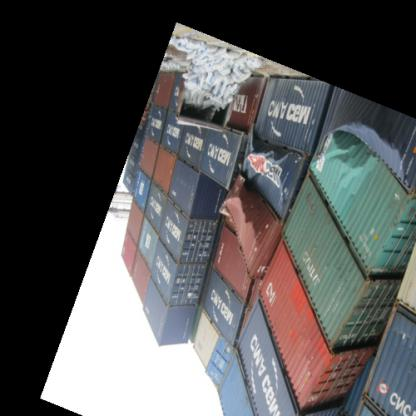Damage: (319, 110, 407, 199), (170, 68, 238, 134), (223, 190, 272, 256), (240, 140, 298, 189)
